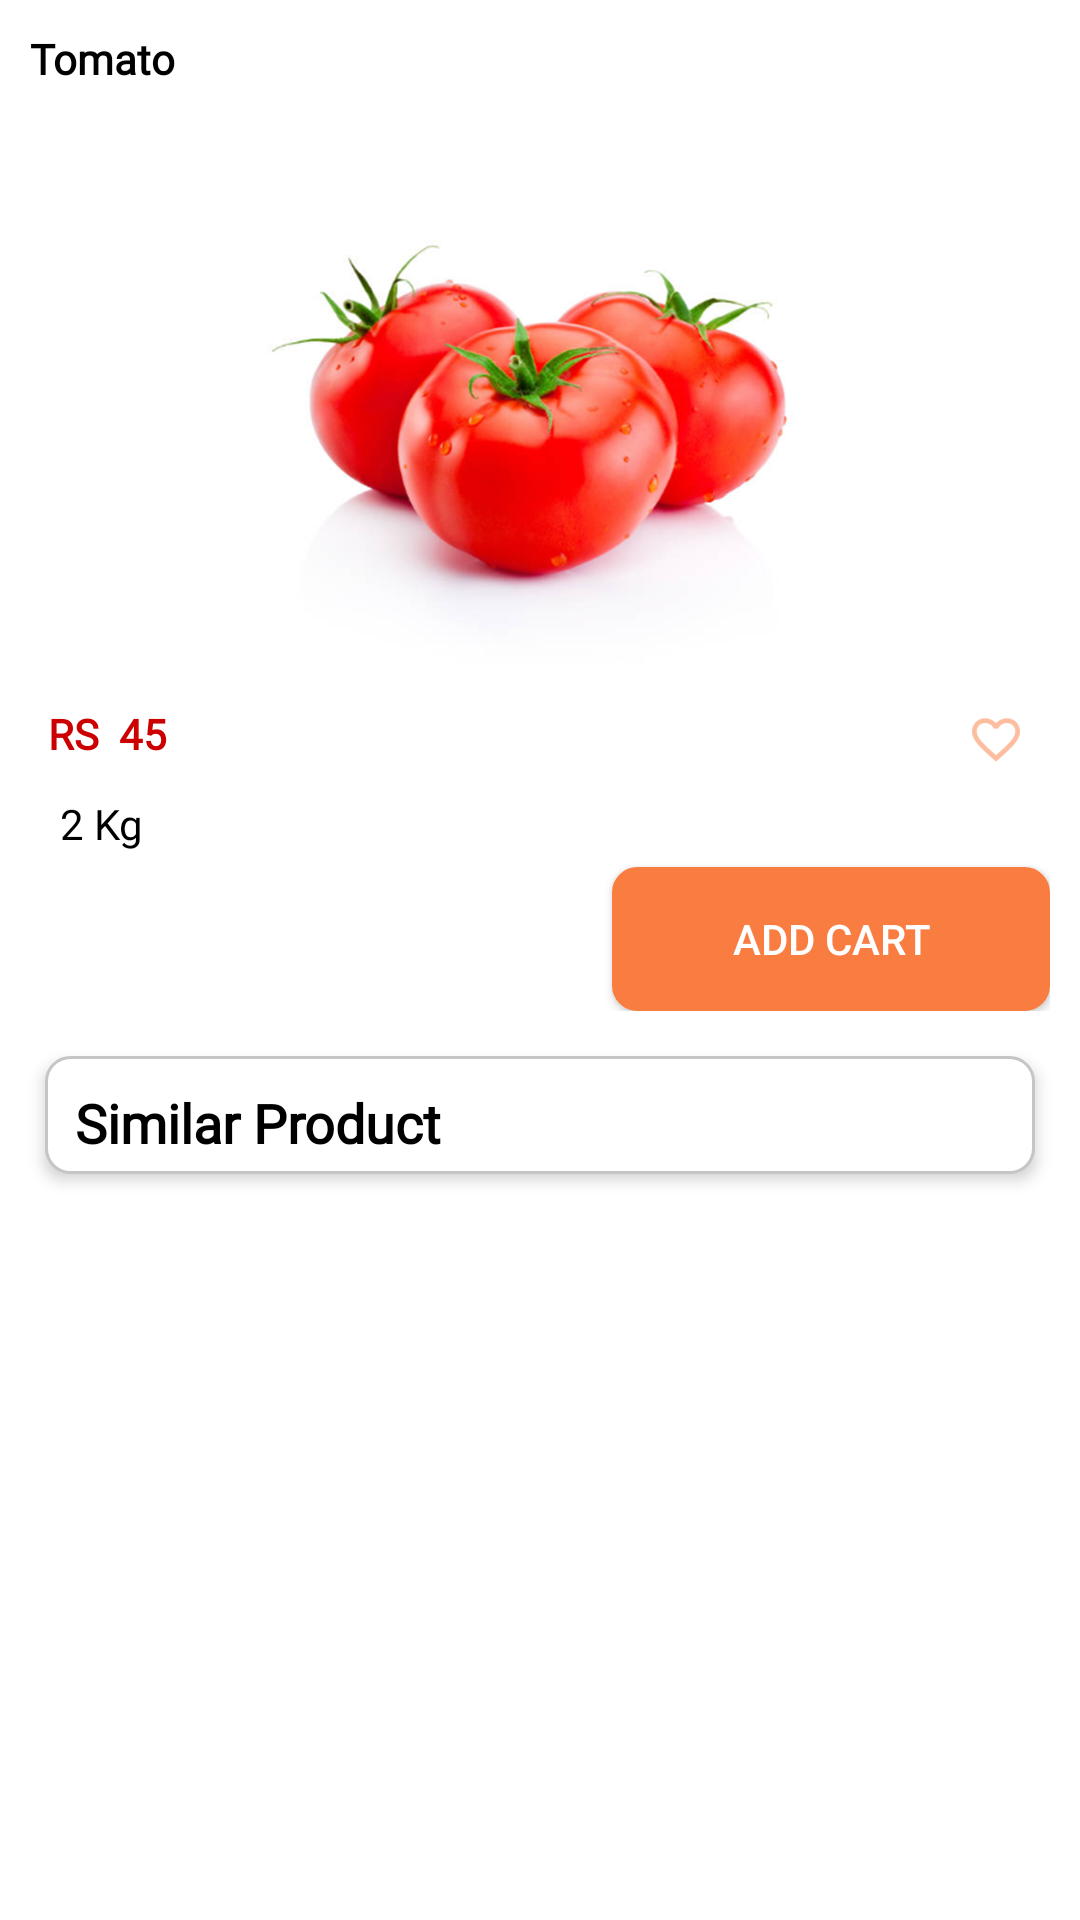

Where icons sit on this 1080×1920 app screen, as (x1, y1, x2, y2):
fav unselect: (972, 718, 1020, 761)
